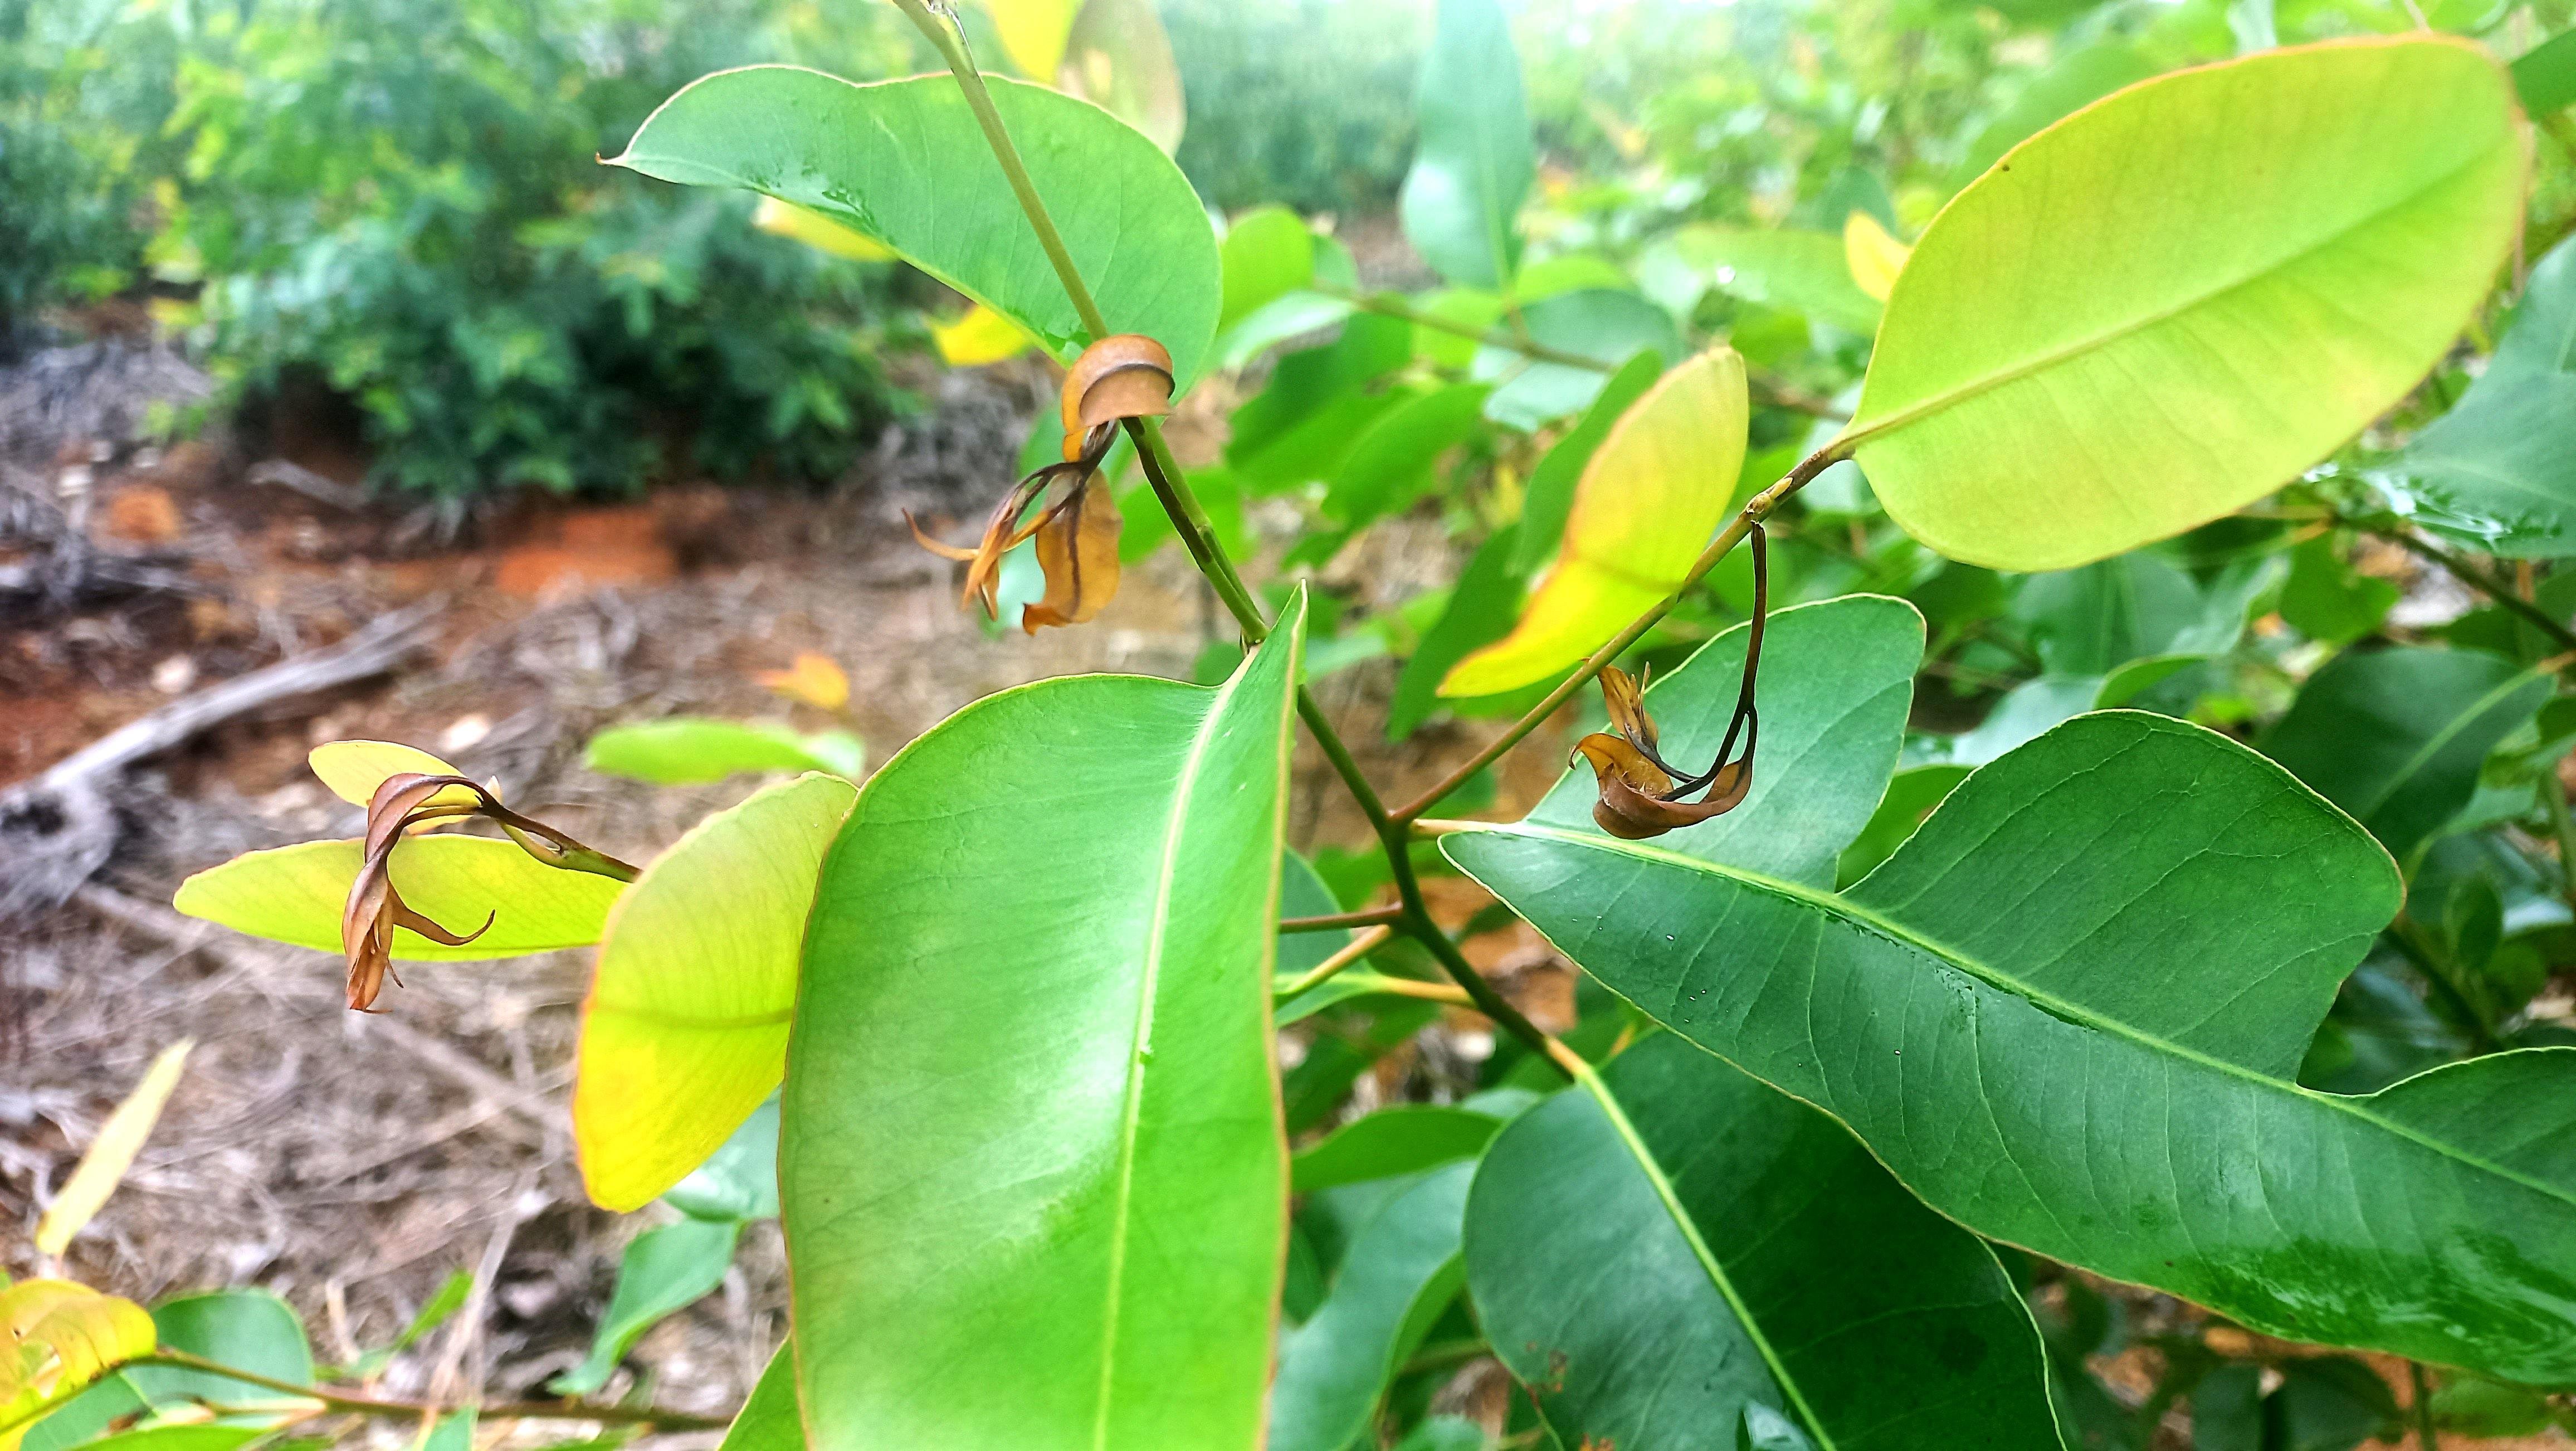Helopeltis-Withered Sprout: (364, 766, 495, 950), (345, 807, 479, 980), (1019, 465, 1123, 633), (1060, 327, 1175, 458), (902, 483, 1083, 559), (957, 469, 1053, 612), (1596, 763, 1755, 839), (1571, 731, 1681, 802), (1583, 653, 1660, 747), (980, 550, 1003, 621)
